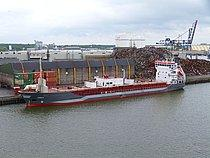Ship: (16, 53, 199, 111)
